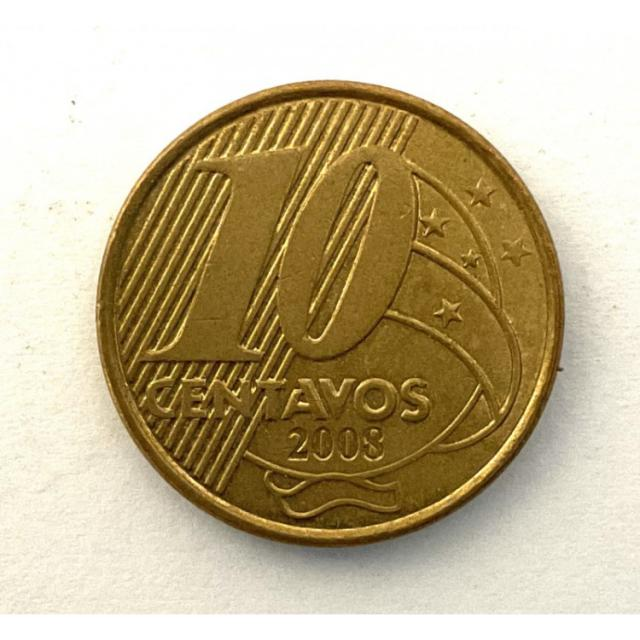10 cent: (102, 76, 550, 539)
